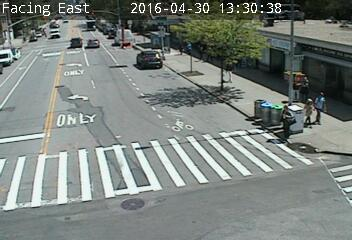neg: (176, 139, 211, 185), (125, 98, 158, 142), (146, 56, 178, 98), (22, 73, 51, 112), (85, 125, 109, 157), (274, 175, 298, 207), (307, 144, 328, 171), (242, 162, 261, 188), (75, 63, 94, 88), (117, 37, 135, 61), (30, 133, 48, 156), (224, 78, 242, 100), (200, 90, 217, 113), (120, 171, 137, 193), (319, 59, 333, 78), (280, 48, 294, 66), (183, 59, 196, 77)
pos: (272, 102, 298, 137), (308, 89, 331, 120), (297, 97, 318, 124)
